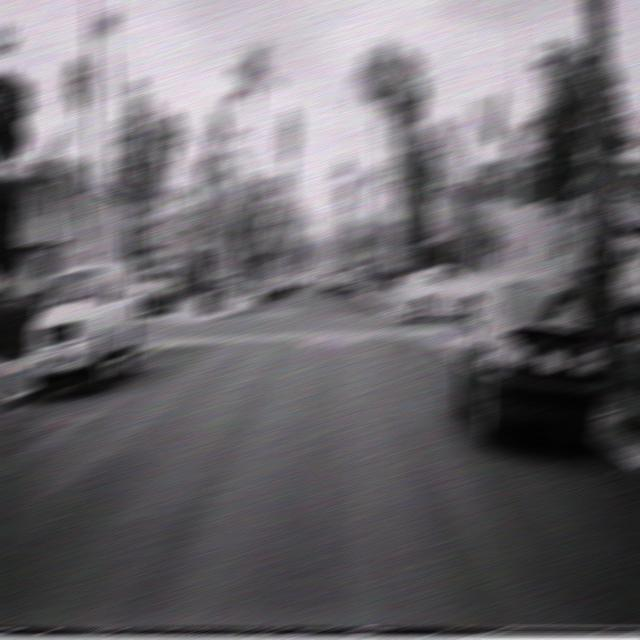stop_sign: (435, 194, 461, 230)
